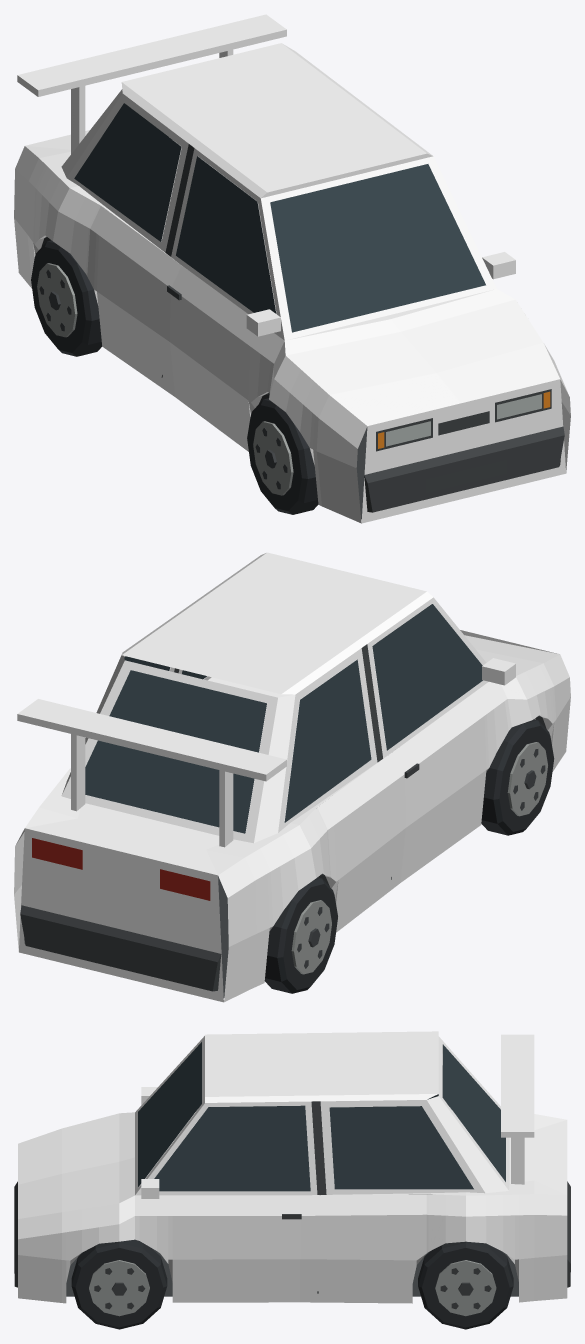
The model's file is aubrac_grive_corrida.glb.
3 views of the same model, one above another, from view 1: azimuth 30°, elevation 25°; view 2: azimuth 150°, elevation 25°; view 3: azimuth 270°, elevation 25° (orthographic). The views are drawn at different scales.
Parts seen in each view (by area): view 1: aubrac_grive_corrida; view 2: aubrac_grive_corrida; view 3: aubrac_grive_corrida.
Boxes of the visible parts, <box> form: aubrac_grive_corrida: <box>14,14,570,523</box>; aubrac_grive_corrida: <box>14,552,570,1002</box>; aubrac_grive_corrida: <box>14,1031,570,1329</box>.
Size of the model in its own units: 1.61 by 1.6 by 3.68.
8 materials, 1 textured.
